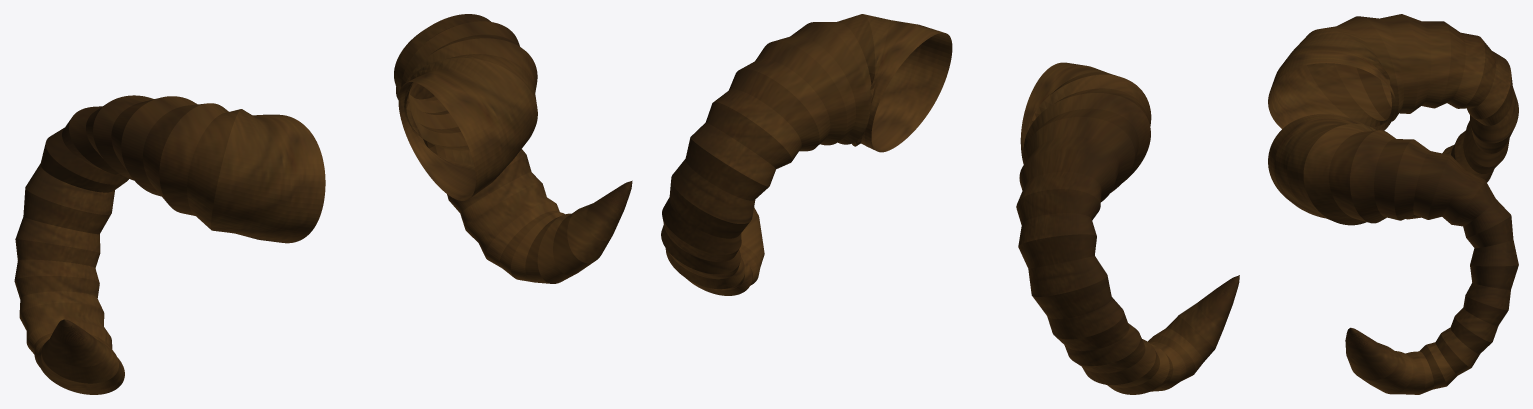
The model's file is mhw_culturalibre_faun_horns.glb.
3 renders of one model, left to right at view 1: azimuth 30°, elevation 25°; view 2: azimuth 150°, elevation 25°; view 3: azimuth 270°, elevation 25°, orthographic. The views are drawn at different scales.
Parts seen in each view (by area): view 1: mhw_culturalibre_faun_horns; view 2: mhw_culturalibre_faun_horns; view 3: mhw_culturalibre_faun_horns.
Part boxes in pixels (x1,y1,x2,y2): mhw_culturalibre_faun_horns: (14,14,632,394); mhw_culturalibre_faun_horns: (661,14,1239,394); mhw_culturalibre_faun_horns: (1268,14,1518,394).
Size of the model in its own units: 0.3546 by 0.1645 by 0.1662.
1 material, 1 textured.
